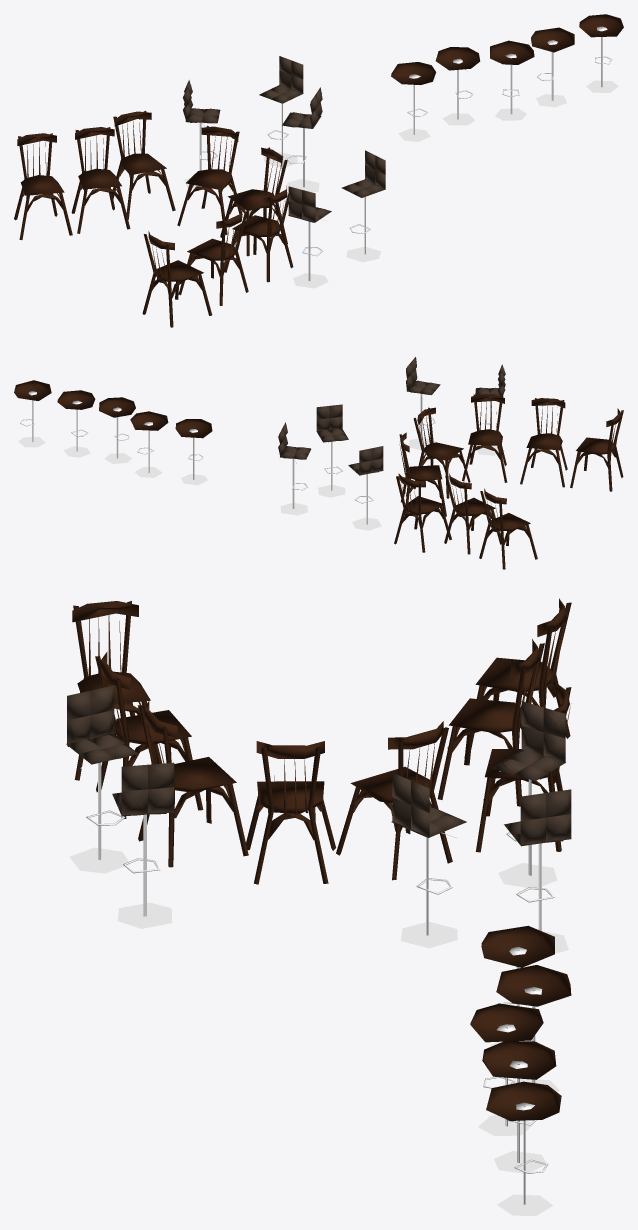
Rendered from chaises.gltf.
The picture shows the model from 3 angles, top to bottom: view 1: azimuth 30°, elevation 25°; view 2: azimuth 150°, elevation 25°; view 3: azimuth 270°, elevation 25°; orthographic projection. The views are drawn at different scales.
Parts seen in each view (by area): view 1: etage_siege_brun_haut_LOW004_1 (×5), etage_tabouret_haut_LOW004_1 (×5), etage_tabouret_haut_LOW004 (×5), etage_siege_brun_haut_LOW004 (×4), chaise_thonet001, chaise_thonet002, chaise_thonet003, chaise_thonet, chaise_thonet007, chaise_thonet006, chaise_thonet005, chaise_thonet004; view 2: etage_siege_brun_haut_LOW004_1 (×5), etage_tabouret_haut_LOW004_1 (×5), etage_tabouret_haut_LOW004 (×5), etage_siege_brun_haut_LOW004 (×4), chaise_thonet006, chaise_thonet005, chaise_thonet001, chaise_thonet003, chaise_thonet004, chaise_thonet007, chaise_thonet002, chaise_thonet; view 3: etage_siege_brun_haut_LOW004_1 (×5), etage_tabouret_haut_LOW004_1 (×5), etage_siege_brun_haut_LOW004 (×4), chaise_thonet004, chaise_thonet002, chaise_thonet005, chaise_thonet, etage_tabouret_haut_LOW004 (×3), chaise_thonet007, chaise_thonet001, chaise_thonet006, chaise_thonet003.
Part boxes in pixels (x1,y1,x2,y2): etage_siege_brun_haut_LOW004_1 (×5): (183,56,385,222); etage_tabouret_haut_LOW004_1 (×5): (391,14,623,84); etage_tabouret_haut_LOW004 (×5): (398,26,618,141); etage_siege_brun_haut_LOW004 (×4): (263,97,380,288); chaise_thonet001: (14,133,72,239); chaise_thonet002: (71,127,130,233); chaise_thonet003: (112,110,175,219); chaise_thonet: (177,125,242,234); chaise_thonet007: (142,231,212,327); chaise_thonet006: (178,209,248,305); chaise_thonet005: (224,185,293,282); chaise_thonet004: (220,147,287,256); etage_siege_brun_haut_LOW004_1 (×5): (278,357,505,475); etage_tabouret_haut_LOW004_1 (×5): (14,380,212,438); etage_tabouret_haut_LOW004 (×5): (18,391,207,485); etage_siege_brun_haut_LOW004 (×4): (280,393,436,530); chaise_thonet006: (520,398,567,487); chaise_thonet005: (462,394,507,482); chaise_thonet001: (479,488,537,569); chaise_thonet003: (394,473,451,552); chaise_thonet004: (413,407,470,498); chaise_thonet007: (570,408,623,491); chaise_thonet002: (444,473,501,554); chaise_thonet: (399,432,446,516); etage_siege_brun_haut_LOW004_1 (×5): (66,685,571,846); etage_tabouret_haut_LOW004_1 (×5): (470,925,571,1120); etage_siege_brun_haut_LOW004 (×4): (69,761,557,948); chaise_thonet004: (246,741,335,884); chaise_thonet002: (437,639,544,806); chaise_thonet005: (137,700,248,867); chaise_thonet: (336,721,452,880); etage_tabouret_haut_LOW004 (×3): (478,1024,552,1215); chaise_thonet007: (66,601,162,780); chaise_thonet001: (464,598,571,756); chaise_thonet006: (95,651,203,818); chaise_thonet003: (476,684,571,852).
Bounding box in the file's own units: 2.94 × 0.4704 × 1.25.
